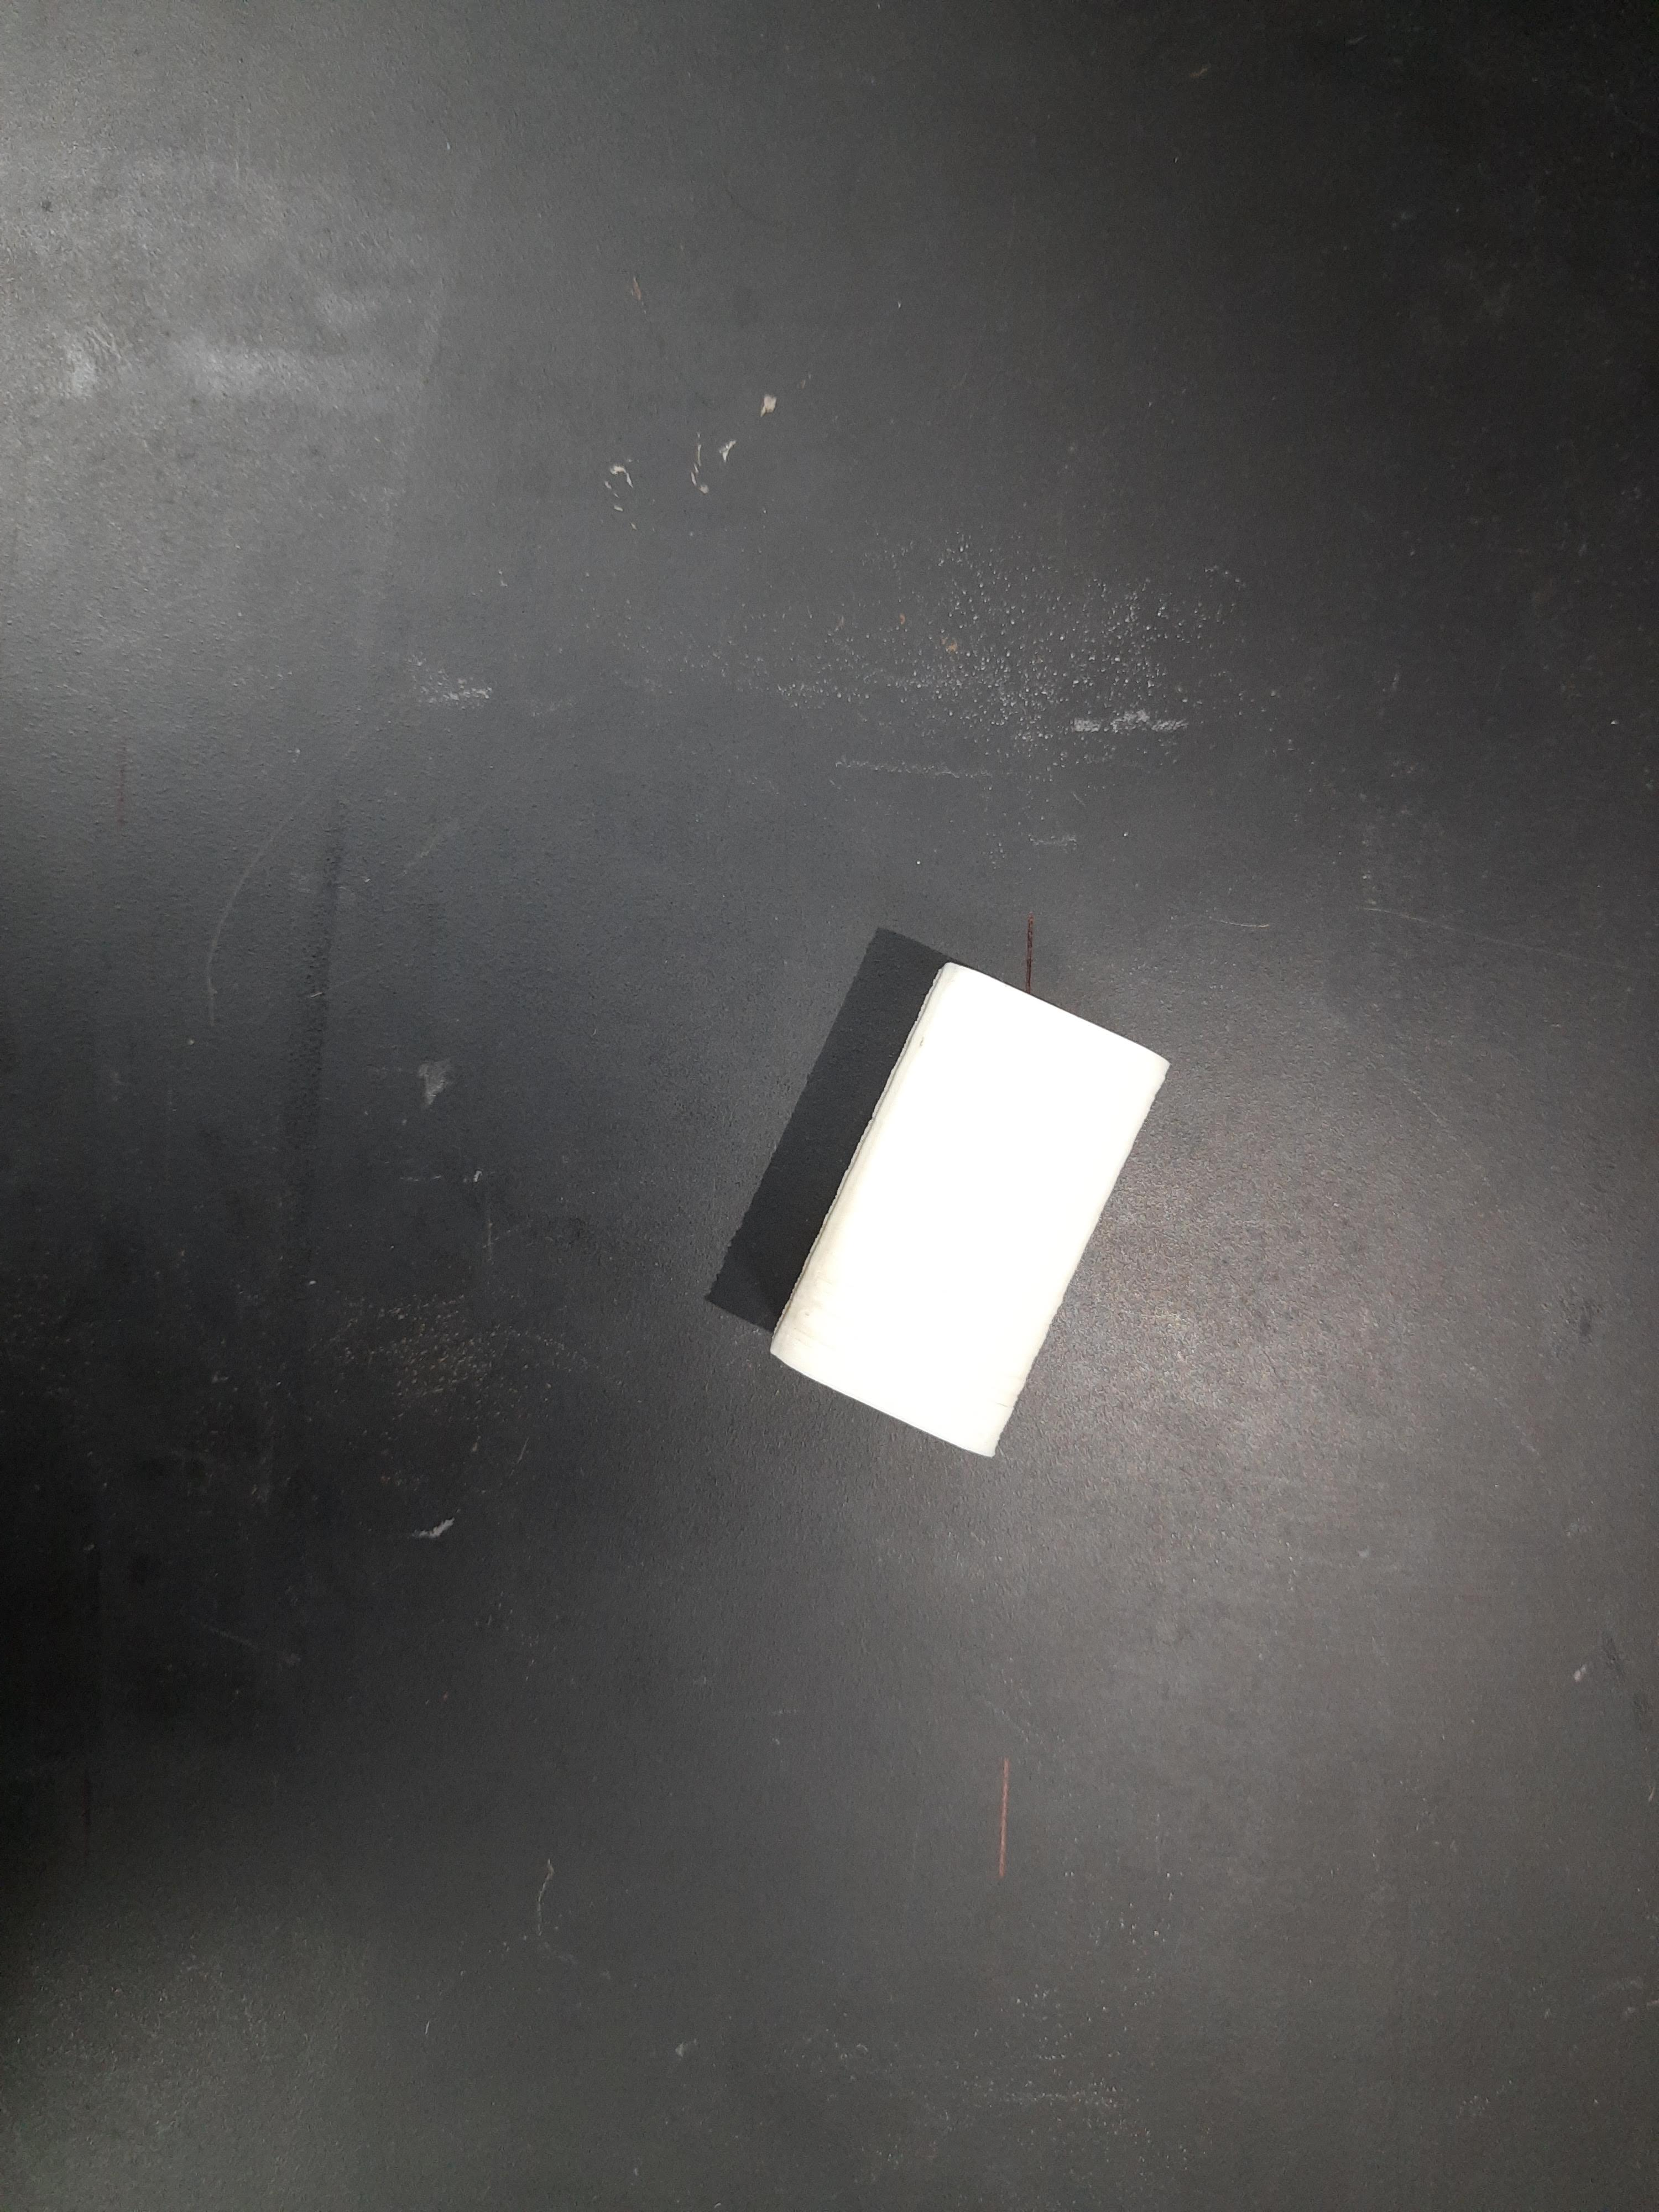YELLOW: (758, 944, 1180, 1460)
